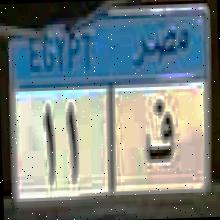1: (43, 102, 56, 182), (65, 102, 78, 178)
faa: (143, 96, 177, 168)
